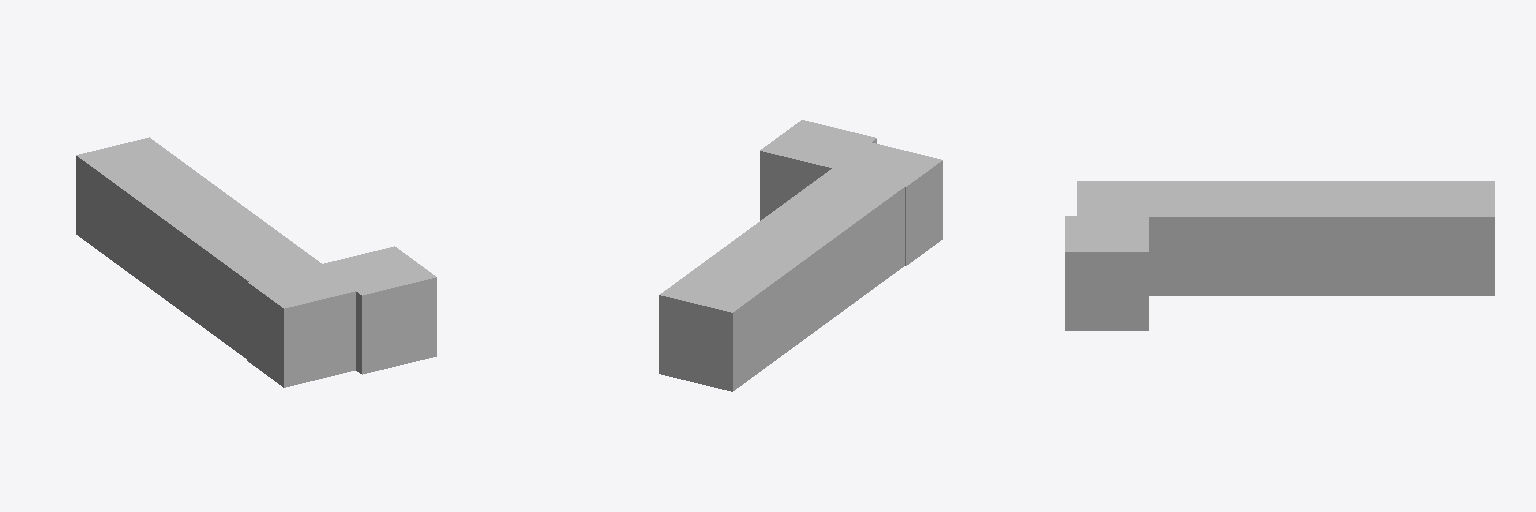
File: cocinaintegralabajo3.obj
3 renders of one model, left to right at view 1: azimuth 30°, elevation 25°; view 2: azimuth 150°, elevation 25°; view 3: azimuth 270°, elevation 25°, orthographic.
Parts seen in each view (by area): view 1: fridge1:fridge1:fridge2:fridge1:fridge3:fridge1:fridge2:fridge1:; view 2: fridge1:fridge1:fridge2:fridge1:fridge3:fridge1:fridge2:fridge1:; view 3: fridge1:fridge1:fridge2:fridge1:fridge3:fridge1:fridge2:fridge1:.
Part boxes in pixels (left/top/right/bottom): fridge1:fridge1:fridge2:fridge1:fridge3:fridge1:fridge2:fridge1:: left=76, top=137, right=436, bottom=387; fridge1:fridge1:fridge2:fridge1:fridge3:fridge1:fridge2:fridge1:: left=659, top=120, right=942, bottom=391; fridge1:fridge1:fridge2:fridge1:fridge3:fridge1:fridge2:fridge1:: left=1065, top=181, right=1494, bottom=330.
Size of the model in its own units: 1.2 by 0.6185 by 3.05.